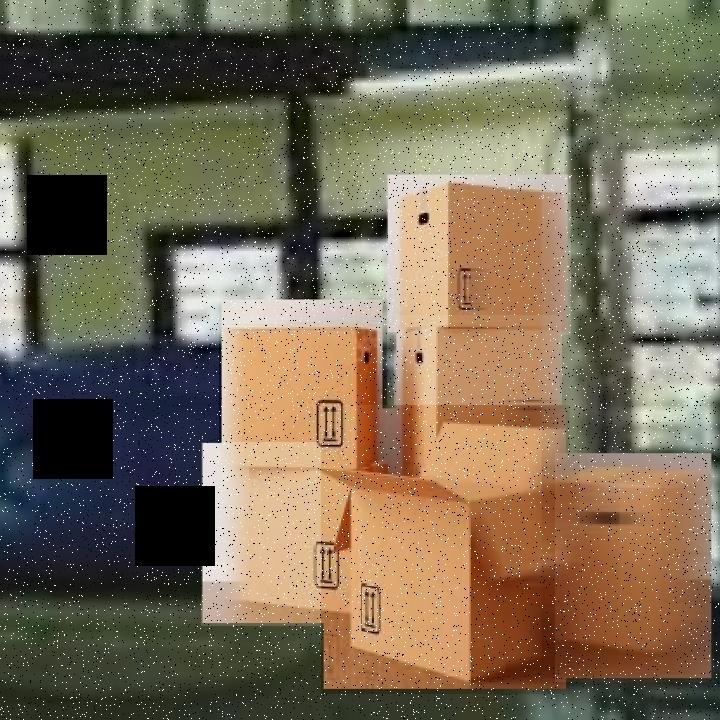box: (321, 405, 570, 694), (555, 454, 714, 684), (201, 442, 370, 626), (219, 298, 387, 476), (386, 174, 571, 335), (394, 315, 562, 490)
